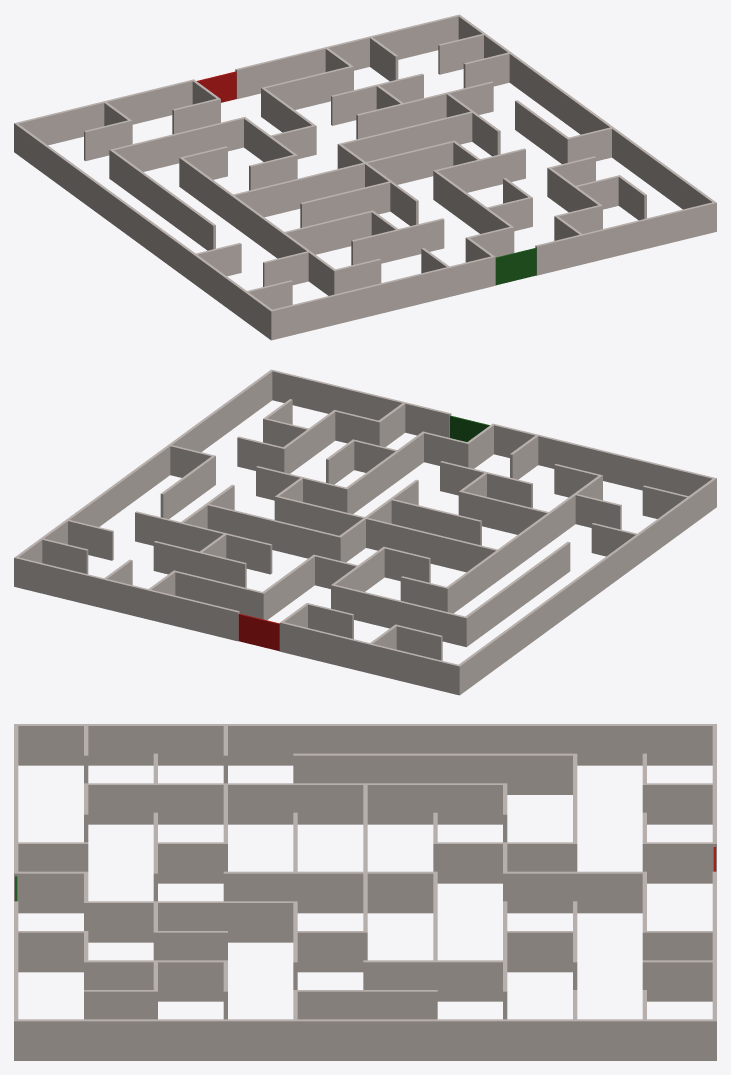
The model's file is maze_with_doors.fbx.
3 views of the same model, one above another, from view 1: azimuth 30°, elevation 25°; view 2: azimuth 150°, elevation 25°; view 3: azimuth 270°, elevation 25° (orthographic). The views are drawn at different scales.
Visible parts, largest first — view 1: Maze, SlowShiftWall_3a, Green Door L, Green Door R, Red Door R; view 2: Maze, SlowShiftWall_3a, SlowShiftWall_4b, SlowShiftWall_4a, Red Door R, Red Door L; view 3: Maze, SlowShiftWall_3a, SlowShiftWall_3b, SlowShiftWall_4b, SlowShiftWall_2, SlowShiftWall_4a, SlowShiftWall_3c, SlowShiftWall_1.
Boxes of the visible parts, x1,y1,x2,y2 form: Maze: (14,14,716,340); SlowShiftWall_3a: (337,143,391,187); Green Door L: (515,248,536,280); Green Door R: (495,253,515,285); Red Door R: (215,71,236,102); Maze: (14,369,716,695); SlowShiftWall_3a: (337,499,391,562); SlowShiftWall_4b: (465,424,493,468); SlowShiftWall_4a: (397,432,424,479); Red Door R: (238,613,259,645); Red Door L: (259,618,279,651); Maze: (14,724,716,1060); SlowShiftWall_3a: (297,871,437,913); SlowShiftWall_3b: (297,931,367,972); SlowShiftWall_4b: (18,871,88,913); SlowShiftWall_2: (433,960,502,1001); SlowShiftWall_4a: (84,901,153,942); SlowShiftWall_3c: (158,842,223,883); SlowShiftWall_1: (642,931,712,960).
Size of the model in its own units: 8050 by 500 by 8050.
